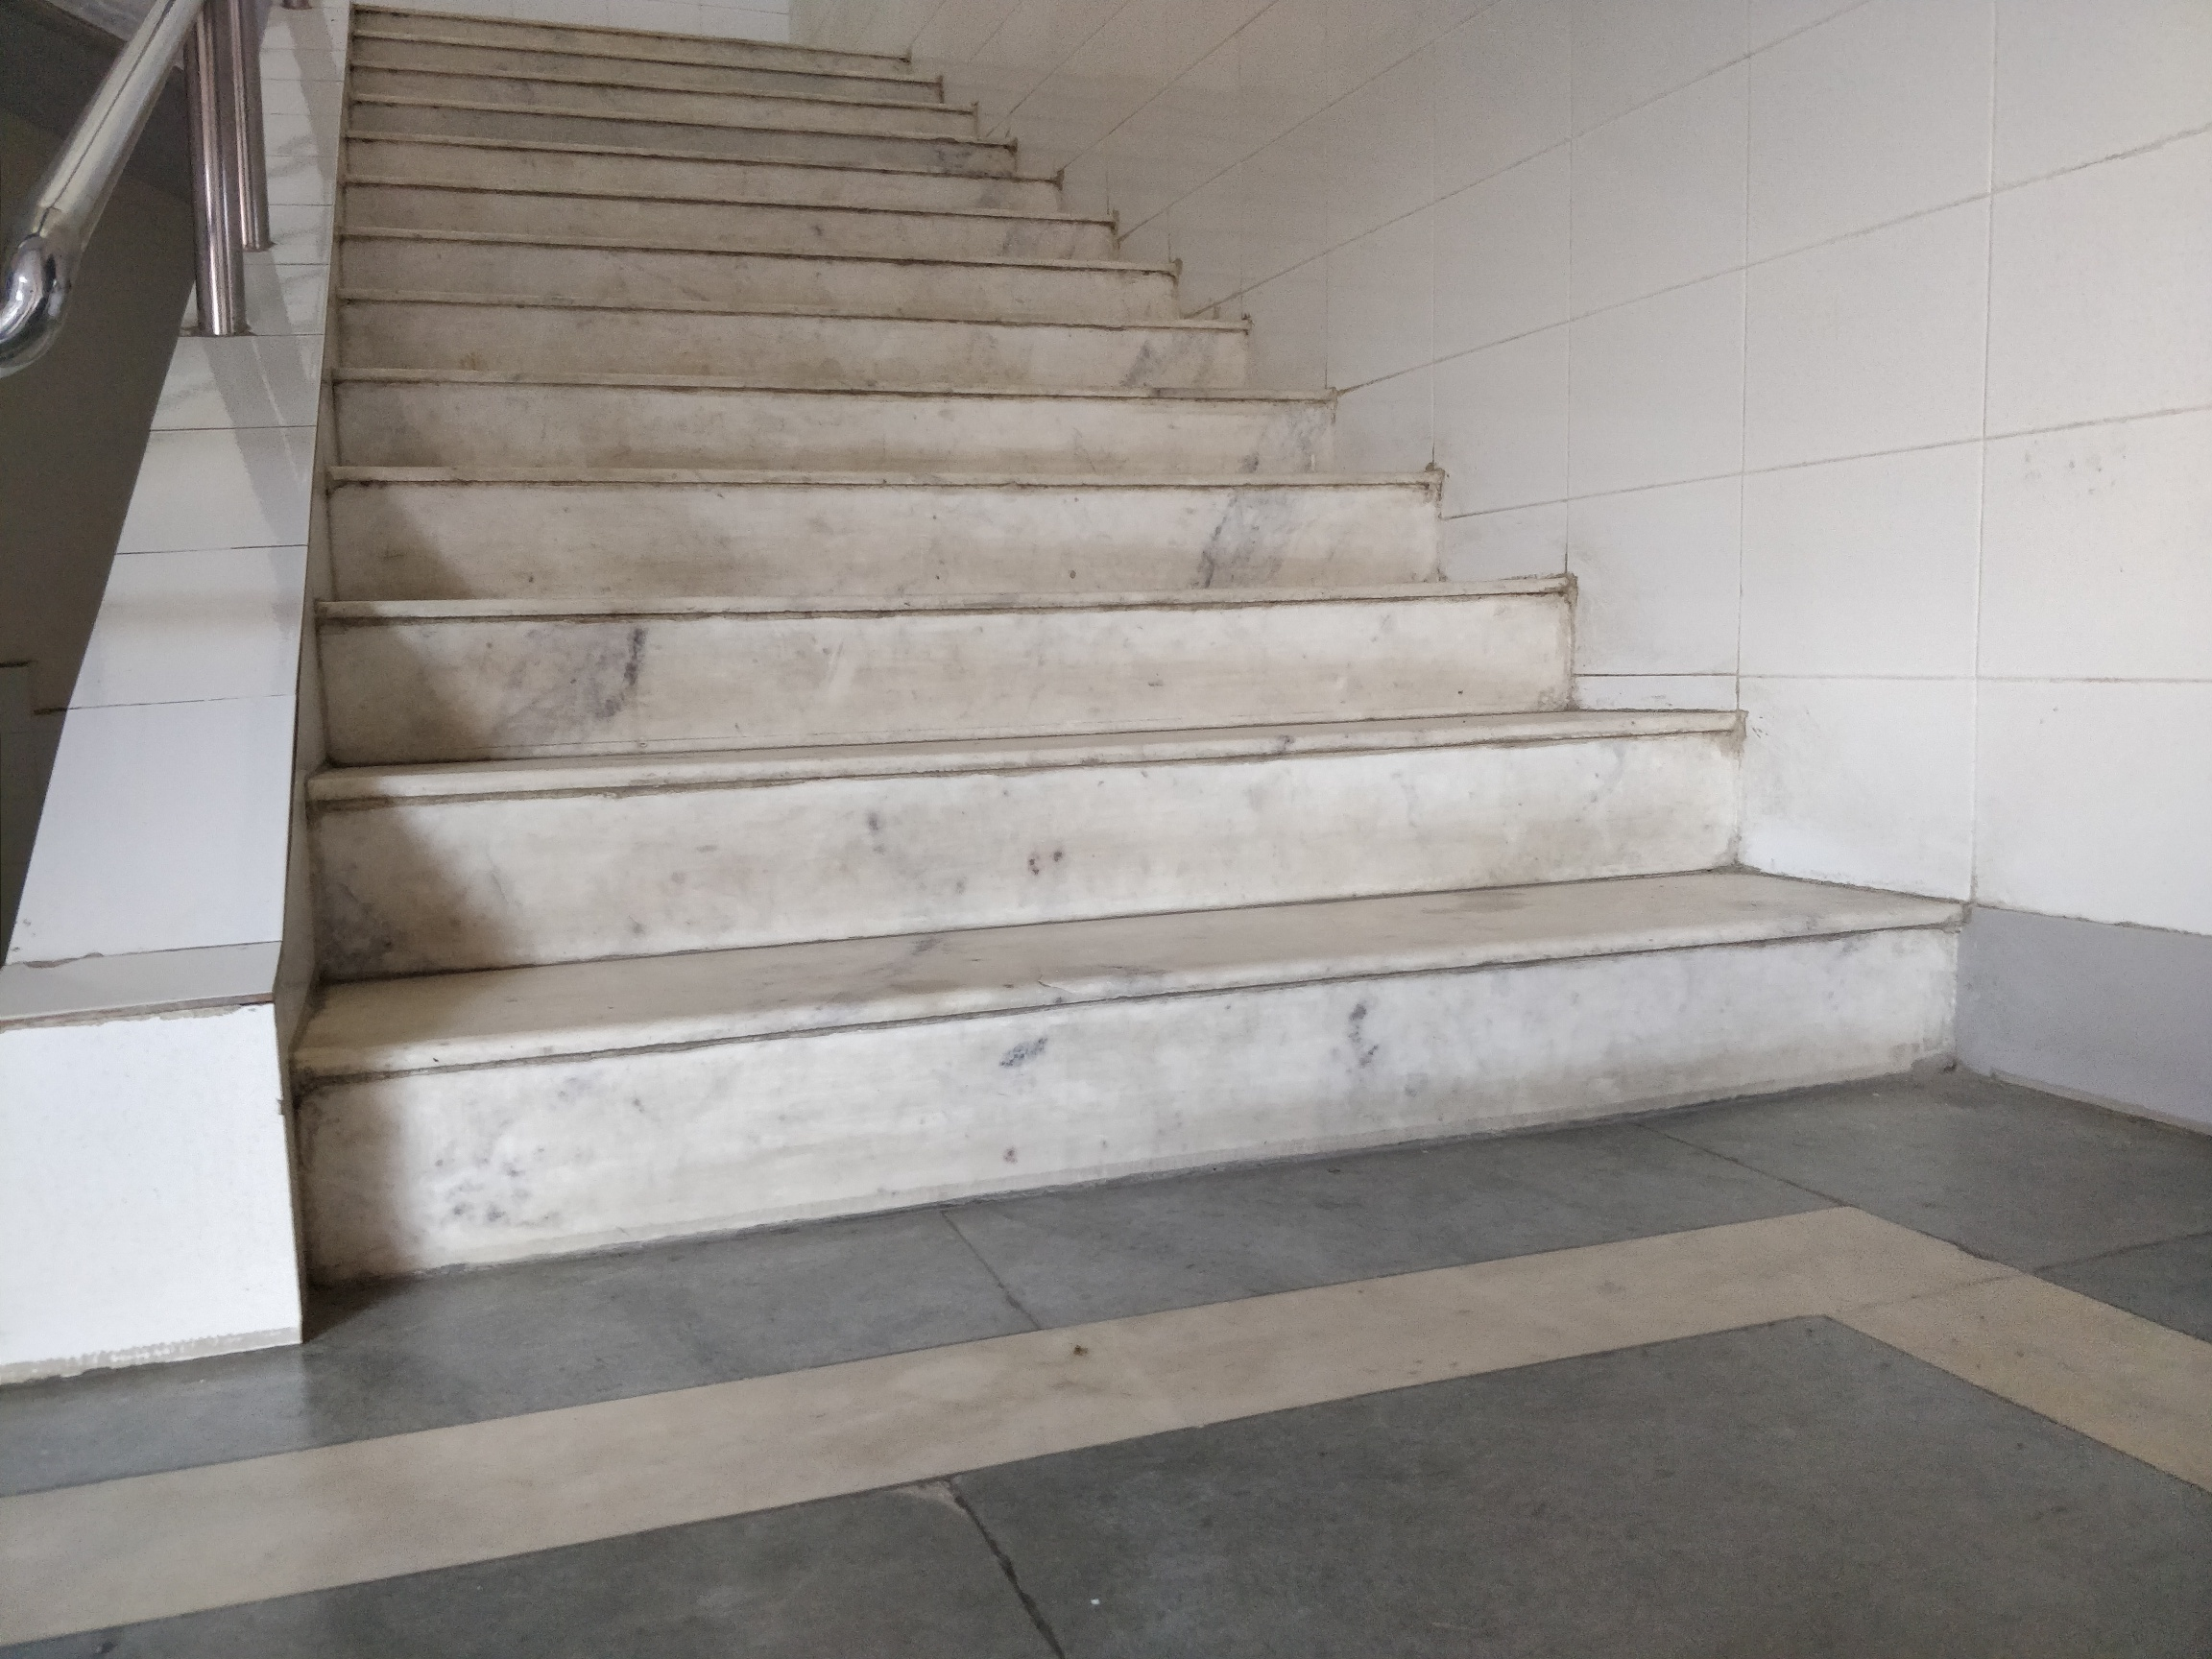stairs_up: (315, 5, 1939, 1378)
